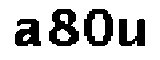0: (82, 6, 115, 49)
8: (47, 6, 81, 50)
a: (7, 16, 43, 49)
u: (117, 16, 148, 51)
